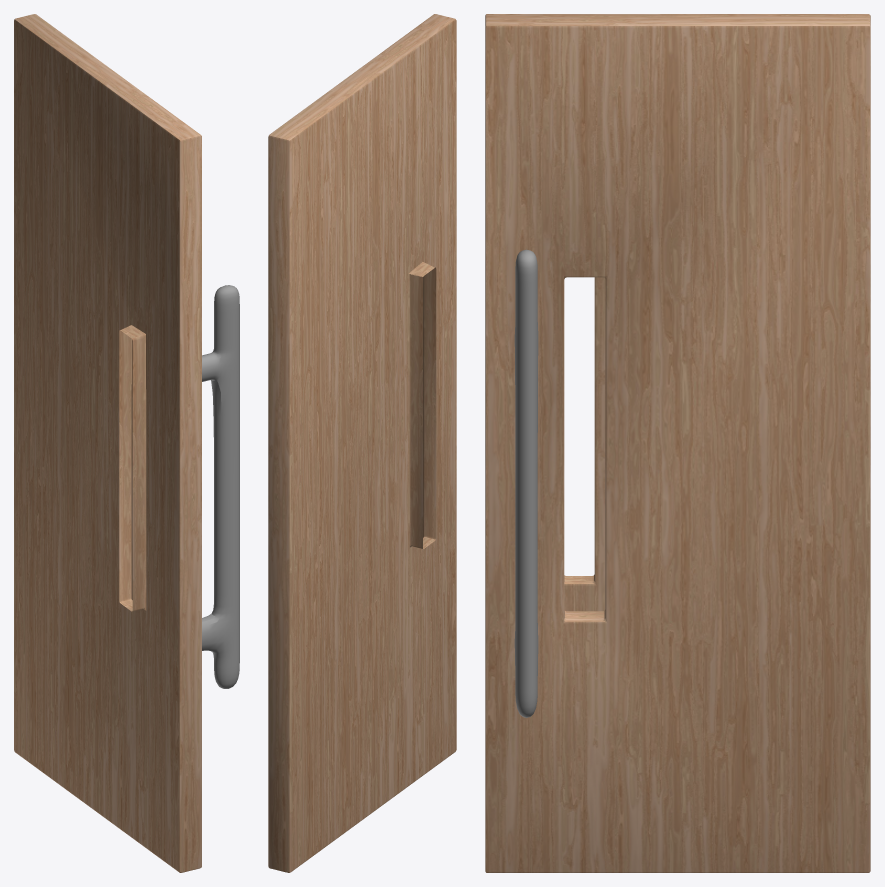
The model's file is doubleDoor-right.glb.
The picture shows the model from 3 angles, left to right: view 1: azimuth 30°, elevation 25°; view 2: azimuth 150°, elevation 25°; view 3: azimuth 270°, elevation 25°; orthographic projection. The views are drawn at different scales.
Visible parts, largest first — view 1: Cube.012; view 2: Cube.012; view 3: Cube.012.
Boxes of the visible parts, left/top/right/bottom form: Cube.012: left=14, top=14, right=239, bottom=872; Cube.012: left=268, top=14, right=456, bottom=872; Cube.012: left=485, top=14, right=870, bottom=872.
Bounding box in the file's own units: 0.3194 × 2.49 × 1.03.
2 materials, 1 textured.
